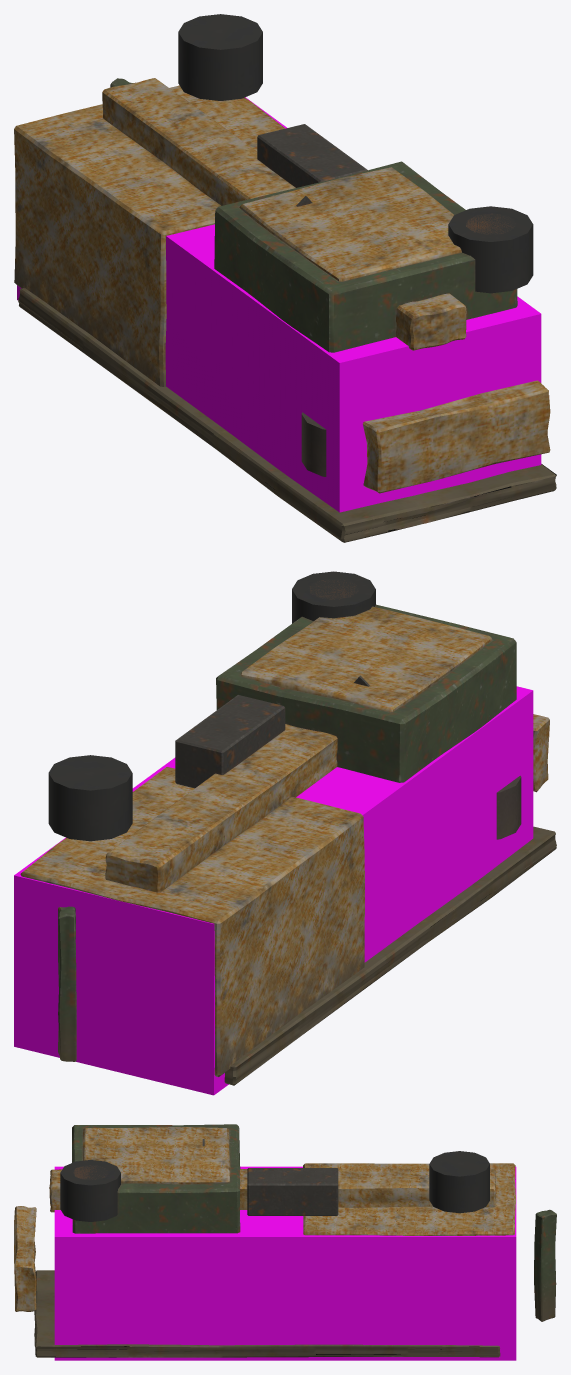
File: prop_car_wreck_02.glb
3 renders of one model, top to bottom at view 1: azimuth 30°, elevation 25°; view 2: azimuth 150°, elevation 25°; view 3: azimuth 270°, elevation 25°, orthographic. The views are drawn at different scales.
Parts seen in each view (by area): view 1: Car, prop_car_wreck_02-col; view 2: Car, prop_car_wreck_02-col; view 3: prop_car_wreck_02-col, Car.
Part boxes in pixels (bbox=[...]): Car: bbox=[14, 14, 556, 542]; prop_car_wreck_02-col: bbox=[17, 97, 541, 512]; Car: bbox=[20, 571, 556, 1085]; prop_car_wreck_02-col: bbox=[14, 686, 533, 1095]; prop_car_wreck_02-col: bbox=[54, 1166, 516, 1360]; Car: bbox=[14, 1124, 556, 1357].
Size of the model in its own units: 1.83 by 2.03 by 5.37.
Materials: 2 (1 with a texture image).
